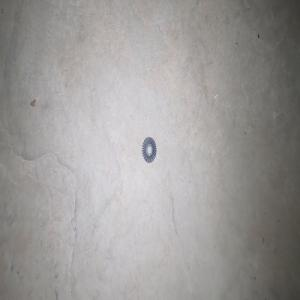Washer: (141, 136, 156, 163)
